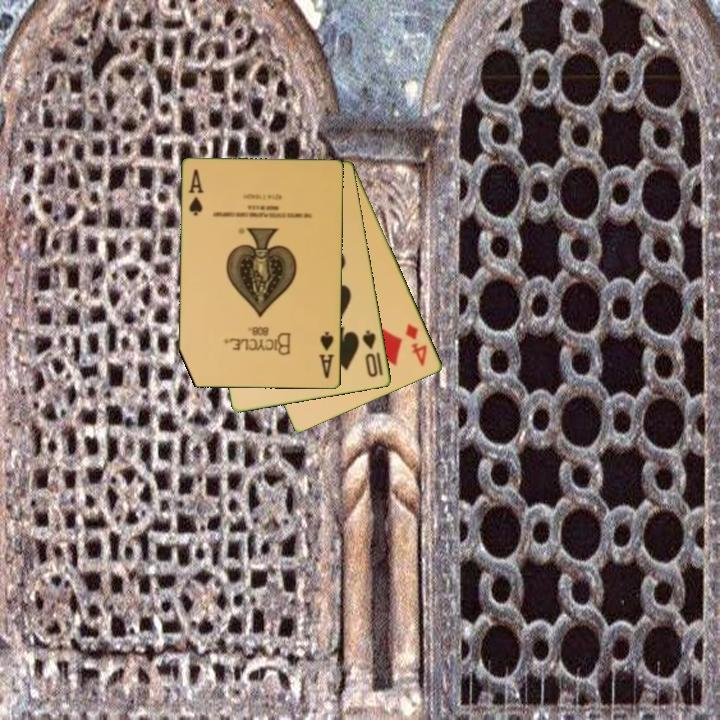10s: (359, 327, 381, 380)
4d: (402, 320, 430, 370)
As: (316, 328, 337, 381), (186, 166, 207, 219)
